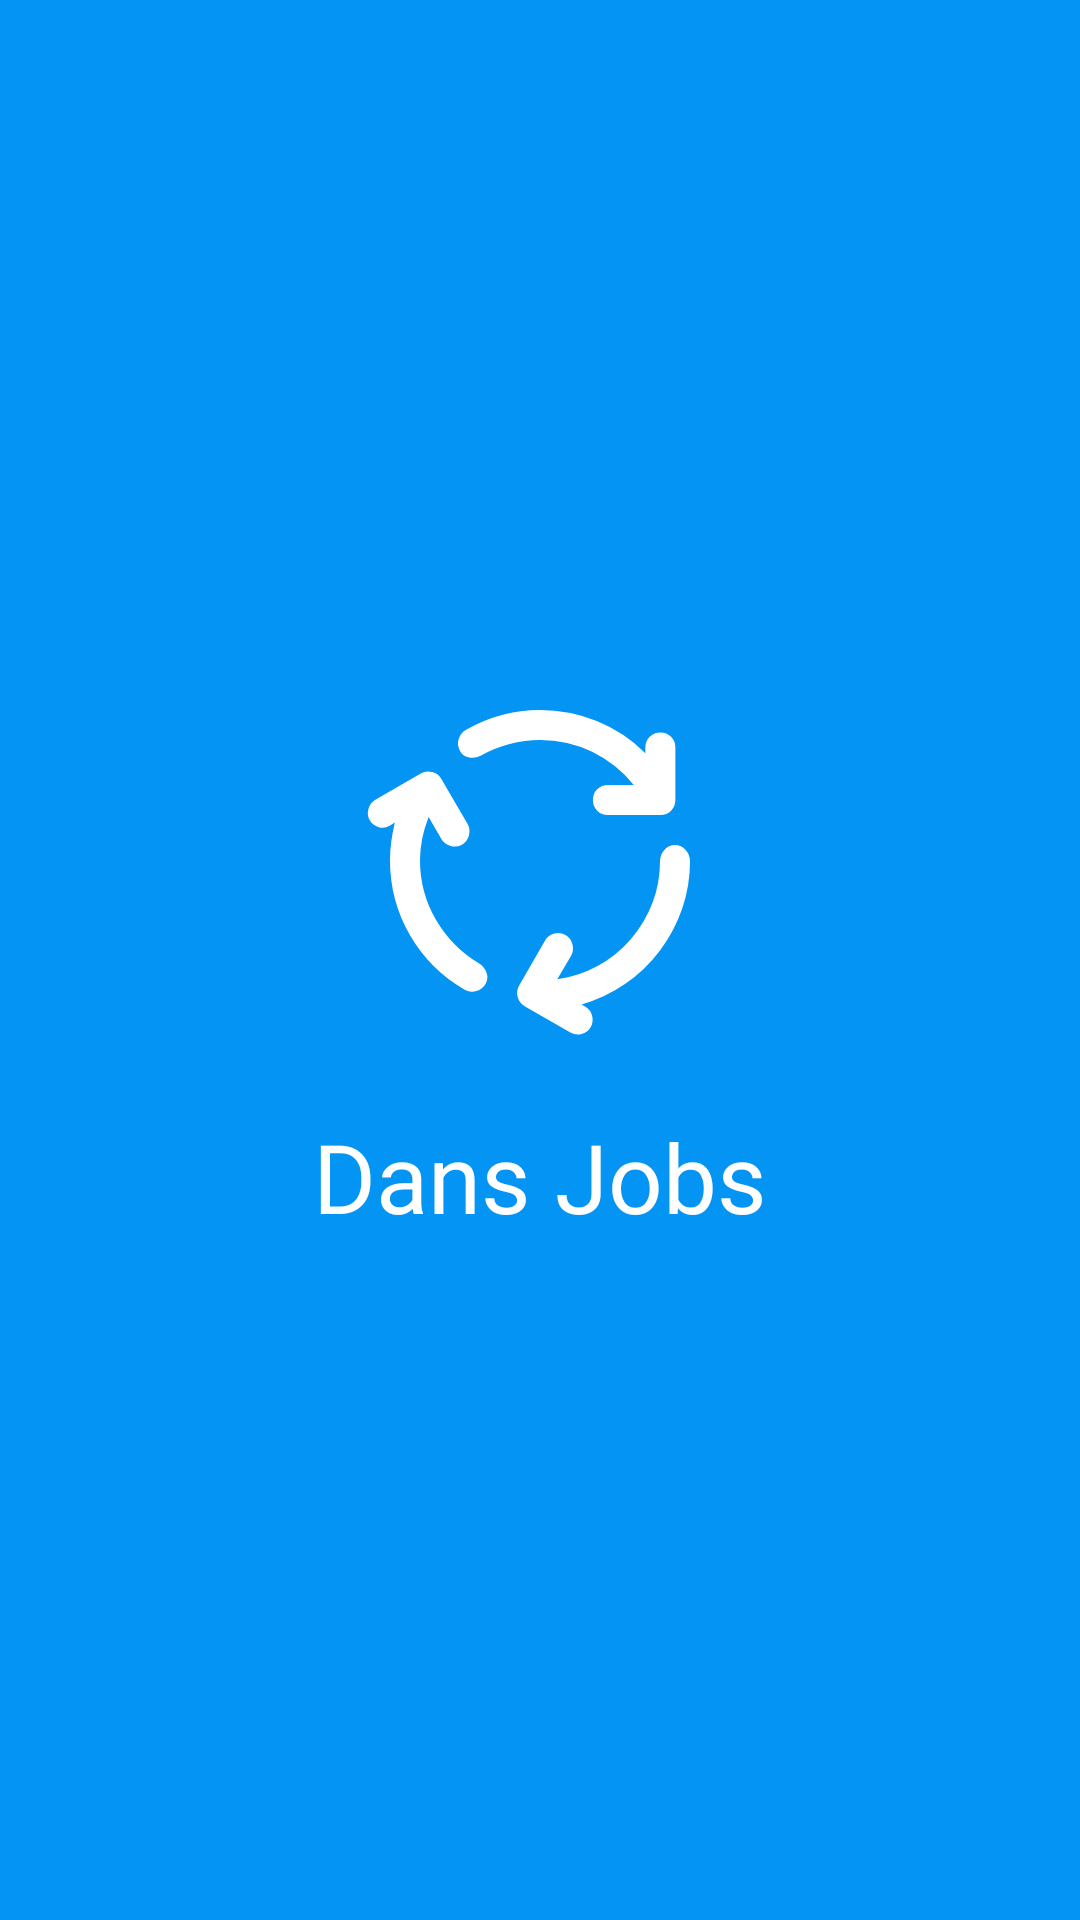

Icons on this 1080×1920 Android screen, each with its box as box=[x1, y1, x2, y2]:
cycle: box=[367, 710, 690, 1035]
